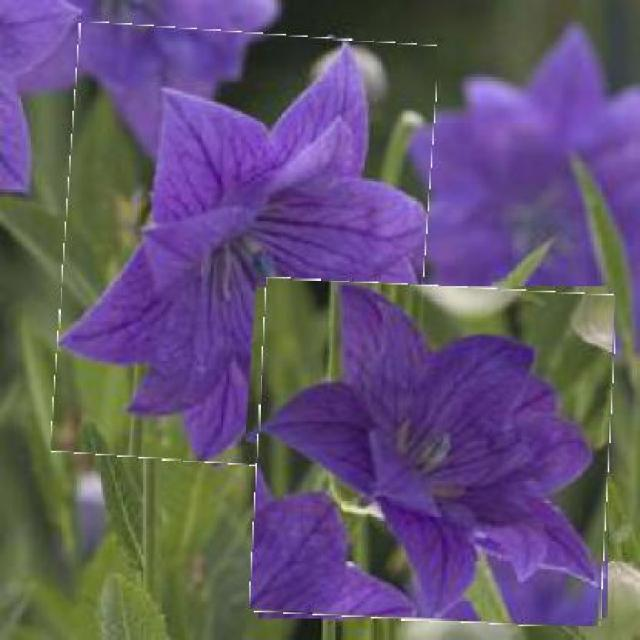Flower: (58, 28, 432, 471), (255, 282, 613, 624)
